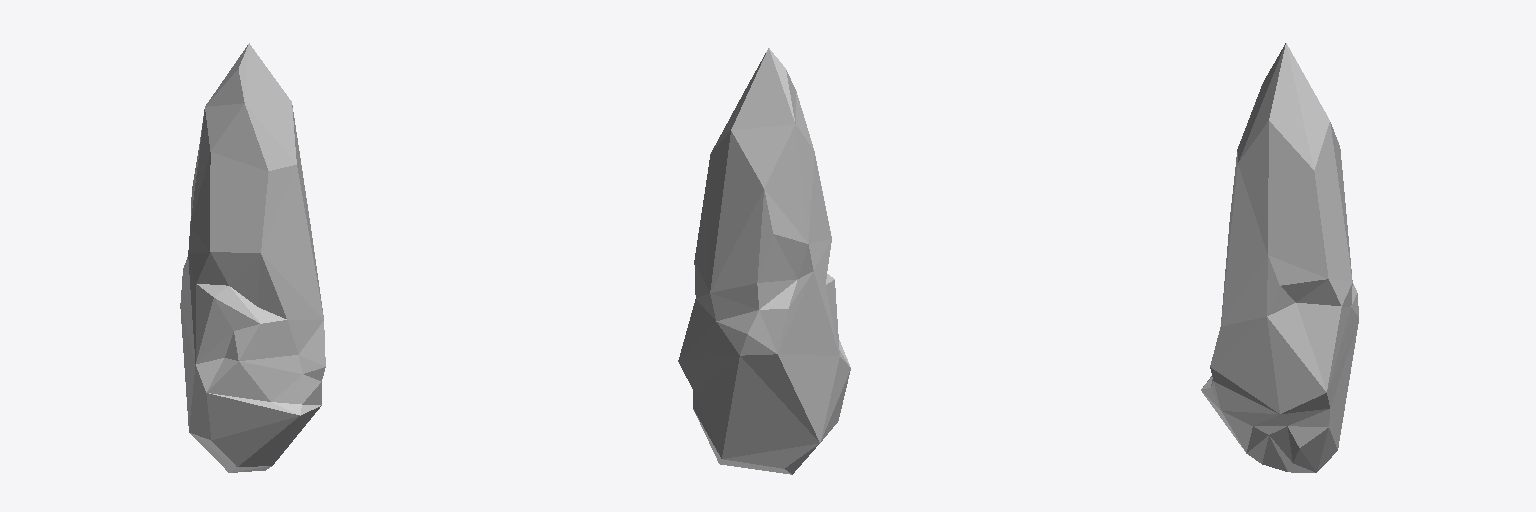
Rendered from Crystal_Low.obj.
The picture shows the model from 3 angles: view 1: azimuth 30°, elevation 25°; view 2: azimuth 150°, elevation 25°; view 3: azimuth 270°, elevation 25°; orthographic projection.
Visible parts, largest first — view 1: Crystal_Group20682.001; view 2: Crystal_Group20682.001; view 3: Crystal_Group20682.001.
Boxes of the visible parts, box(x1,y1,x2,y2) form: Crystal_Group20682.001: box(180, 43, 325, 472); Crystal_Group20682.001: box(678, 48, 850, 474); Crystal_Group20682.001: box(1201, 43, 1358, 472).
Size of the model in its own units: 1.59 by 4.83 by 1.64.